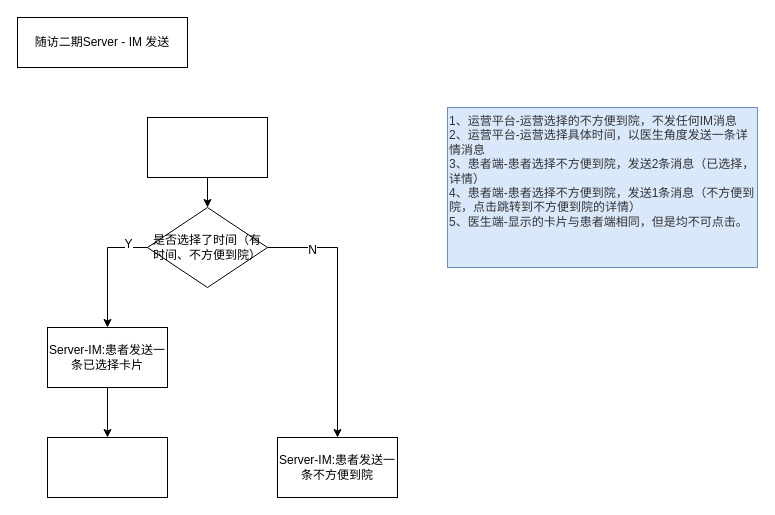
Image size: 775x515. Some labels were removed from this diagram. The shapes that lost their labels are listed below. From the top down, each one's centre as x and y in pixels, then its label:
At [207,147]: "患者端选择时间".
At [107,467]: "Server-IM:医生发送一条详情卡片".
